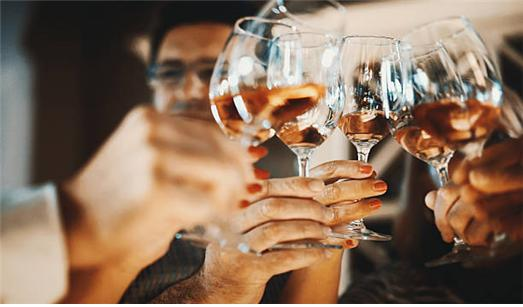alcohol: (399, 13, 505, 250), (340, 33, 399, 243), (212, 15, 262, 252), (268, 31, 343, 188), (267, 1, 350, 45)
